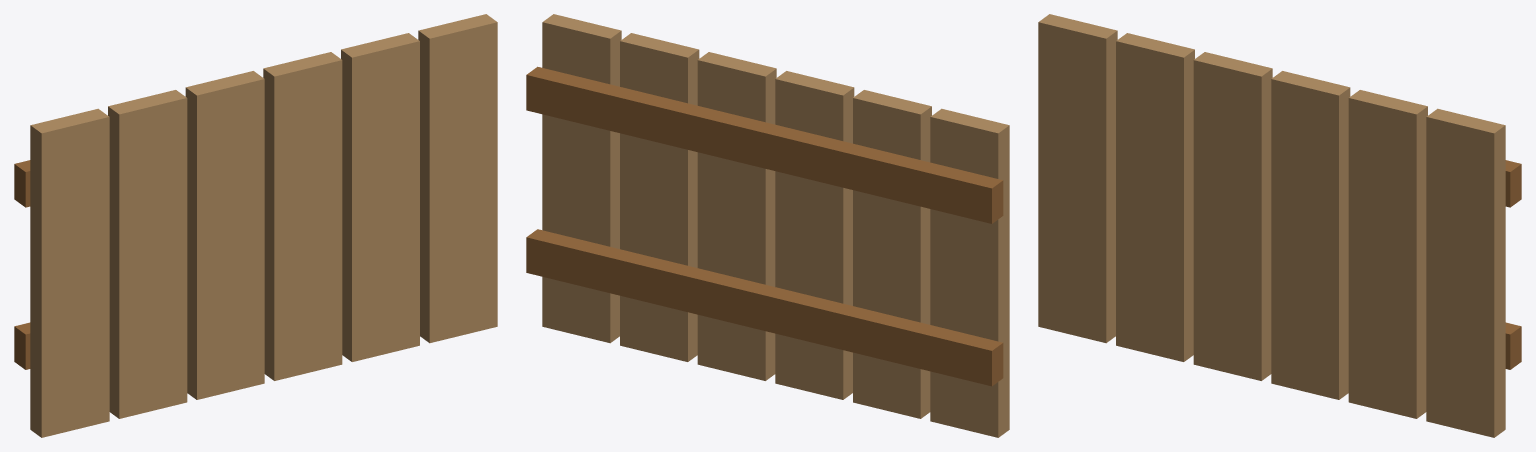
File: dec_fence.glb
The picture shows the model from 3 angles, left to right: view 1: azimuth 30°, elevation 25°; view 2: azimuth 150°, elevation 25°; view 3: azimuth 330°, elevation 25°; orthographic projection.
Visible parts, largest first — view 1: dec_fence_mesh; view 2: dec_fence_mesh; view 3: dec_fence_mesh.
Part boxes in pixels (x1,y1,x2,y2): dec_fence_mesh: [14, 14, 497, 437]; dec_fence_mesh: [526, 14, 1009, 437]; dec_fence_mesh: [1038, 14, 1521, 437].
Bounding box in the file's own units: 0.48 × 0.3 × 0.04.
1 material, 1 textured.
